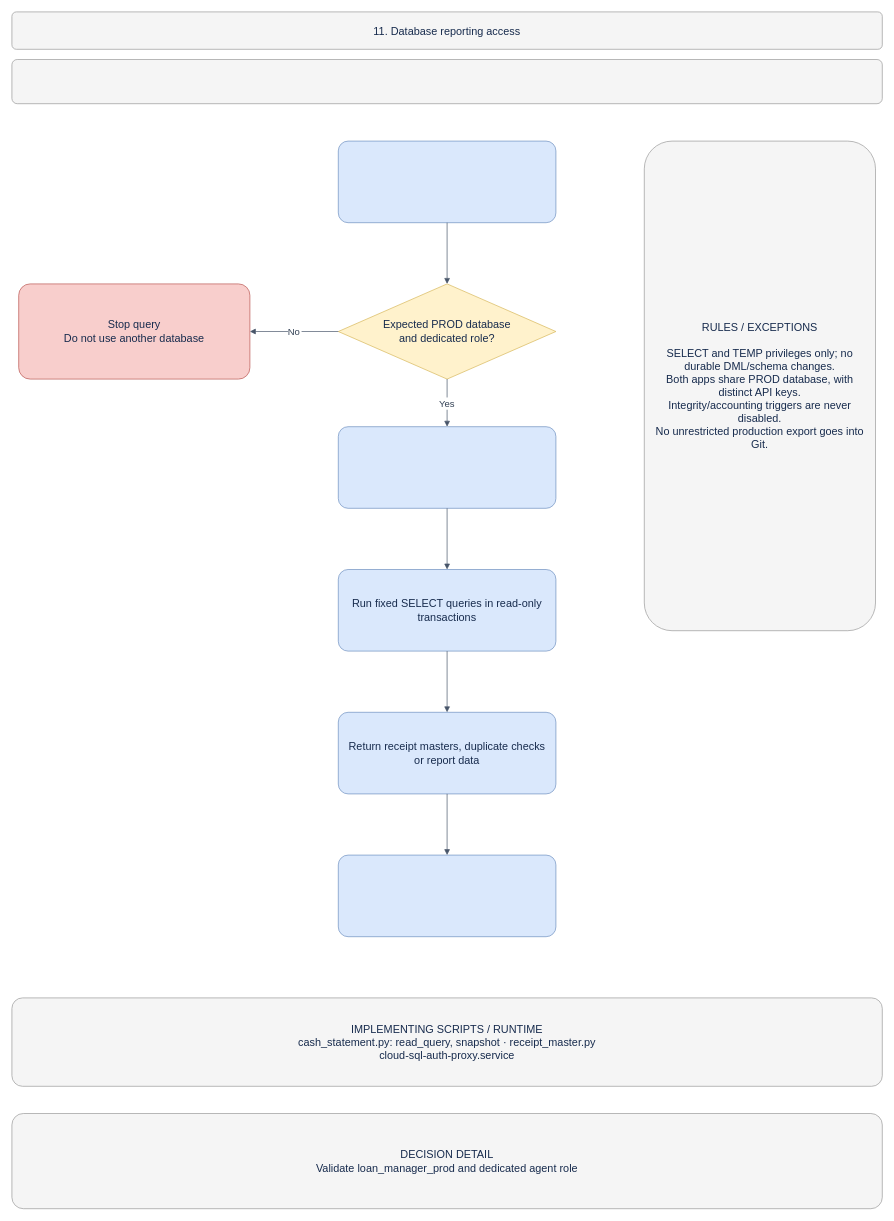
Some shapes in this 894 by 1221 pixel diagram are drawn without their labels. The box of each missing label's shape, as (x1, y1, x2, y2) in pixels:
Cloud SQL Auth Proxy listens on 127.0.0.1:5432: (338, 140, 556, 223)
Load protected credential without exposing it to Codex: (338, 426, 556, 508)
Rollback read transaction; retain required private evidence: (338, 854, 556, 937)
STATUS: LIVE | Return to all services: (11, 59, 882, 104)
